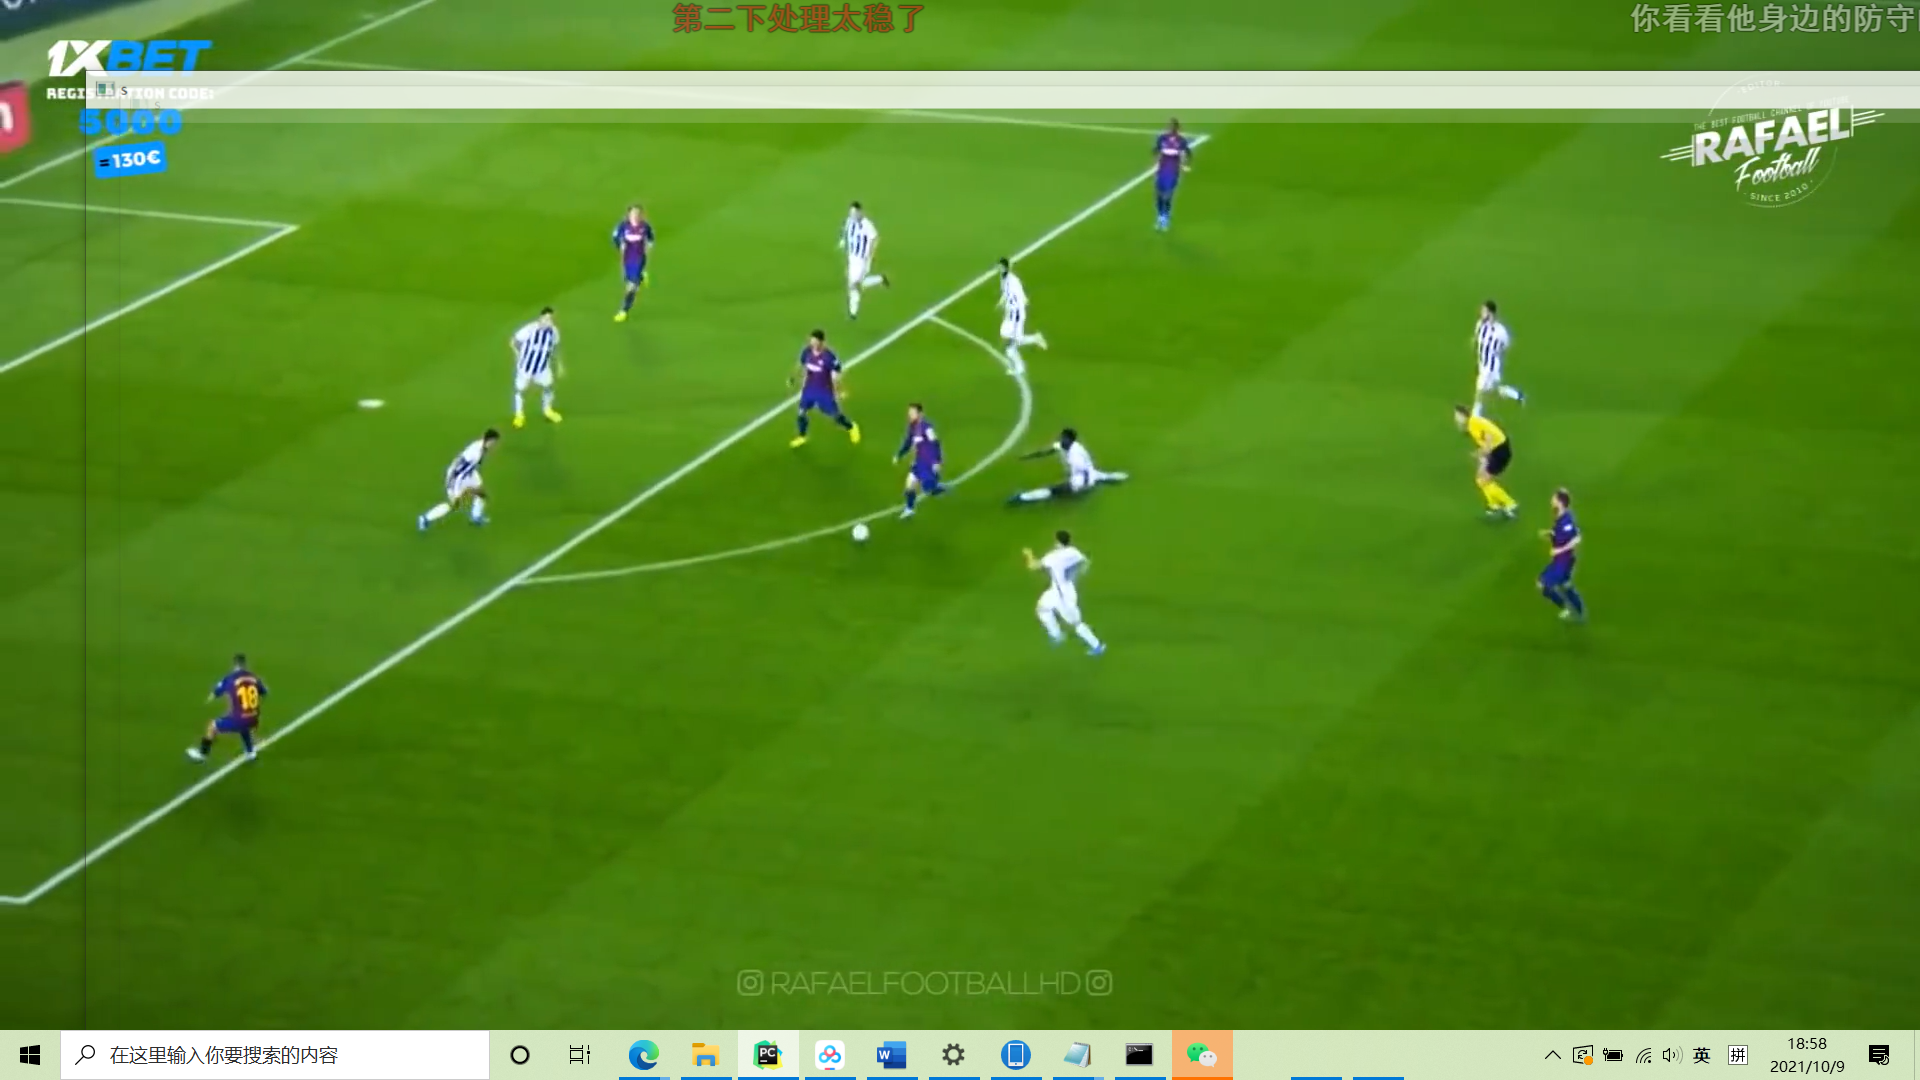ft: (849, 521, 873, 542)
